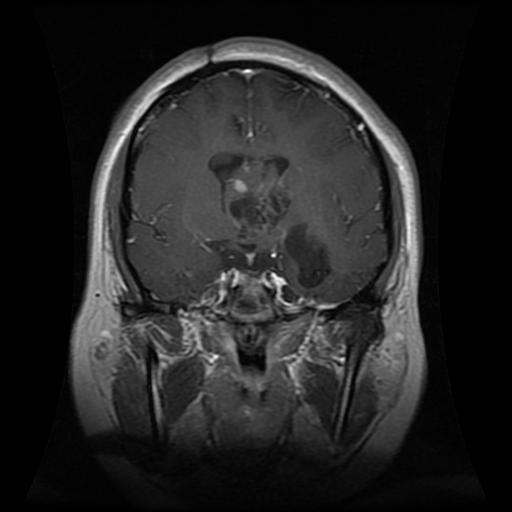Gliomia_tumour: (200, 148, 337, 288)
